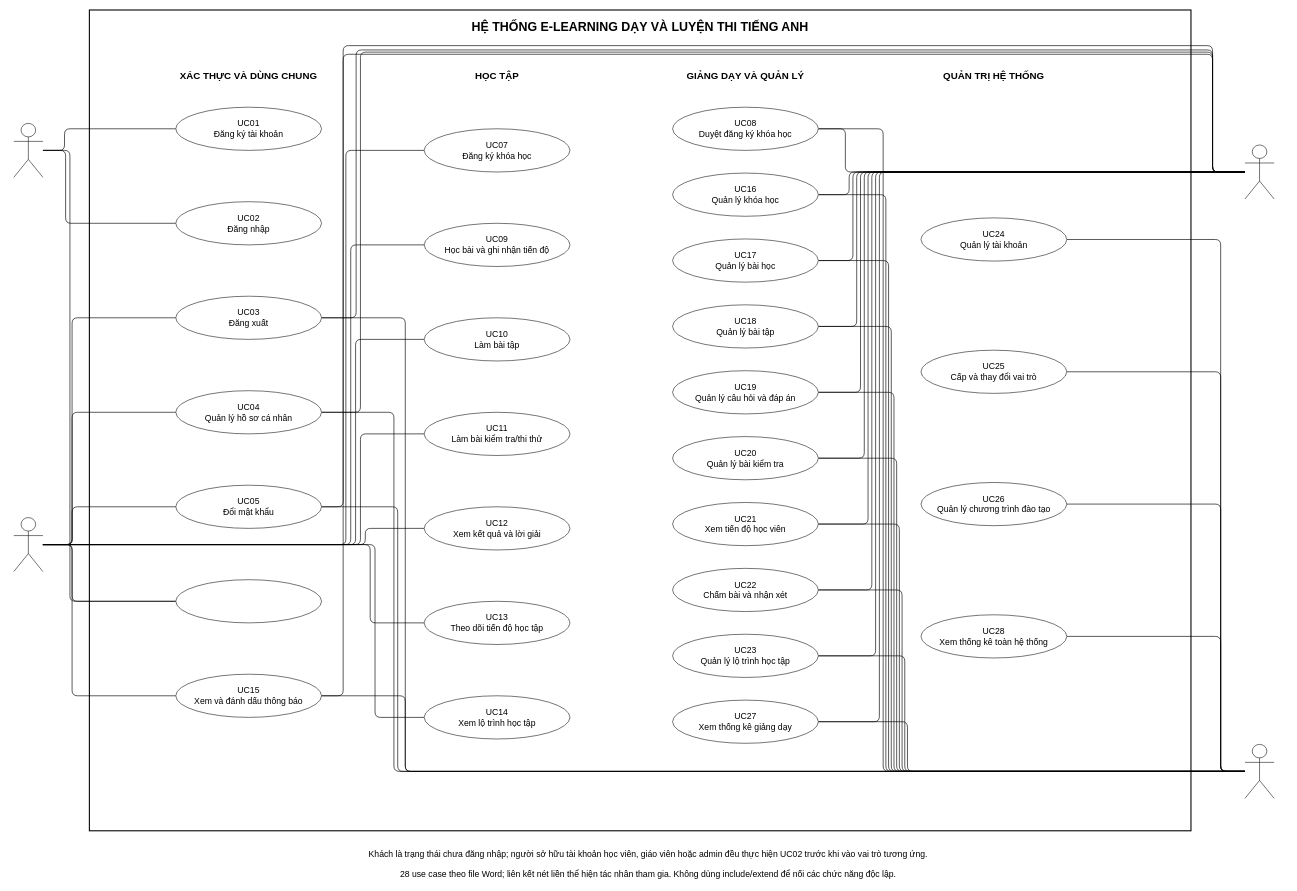
Image size: 1297x891. Some labels were removed from this diagram. The shapes that lost their labels are listed below. From the top down, each one's centre as x and y in pixels, then its label:
At [28,150]: "Khách".
At [1259,171]: "Giáo viên".
At [28,544]: "Học viên".
At [248,601]: "UC06 Tra cứu khóa học".
At [1259,771]: "Quản trị viên".
